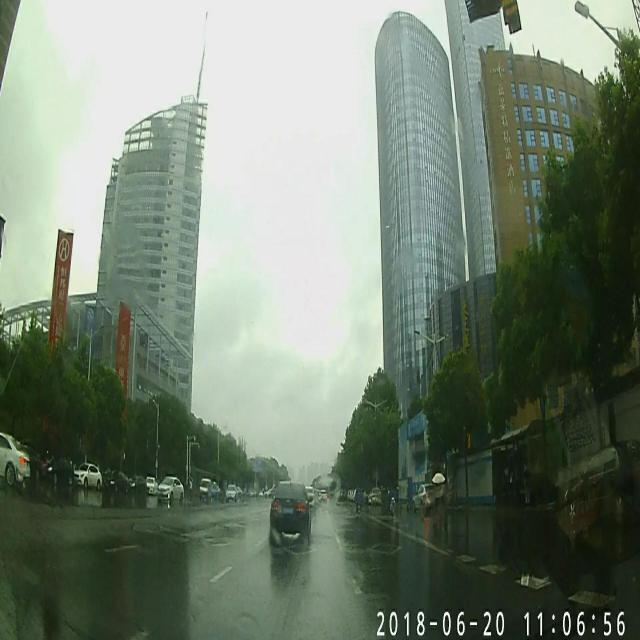car: (270, 480, 312, 544), (158, 476, 184, 502), (200, 479, 212, 500), (226, 484, 238, 502)
